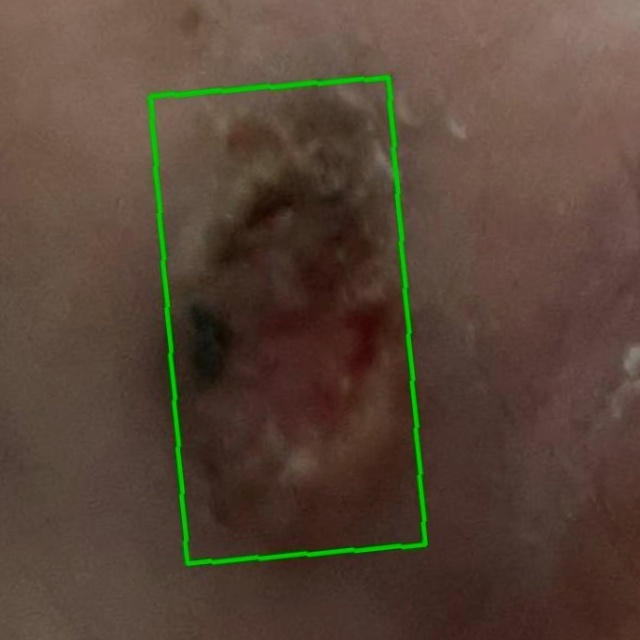Eczema: (150, 77, 426, 564)
